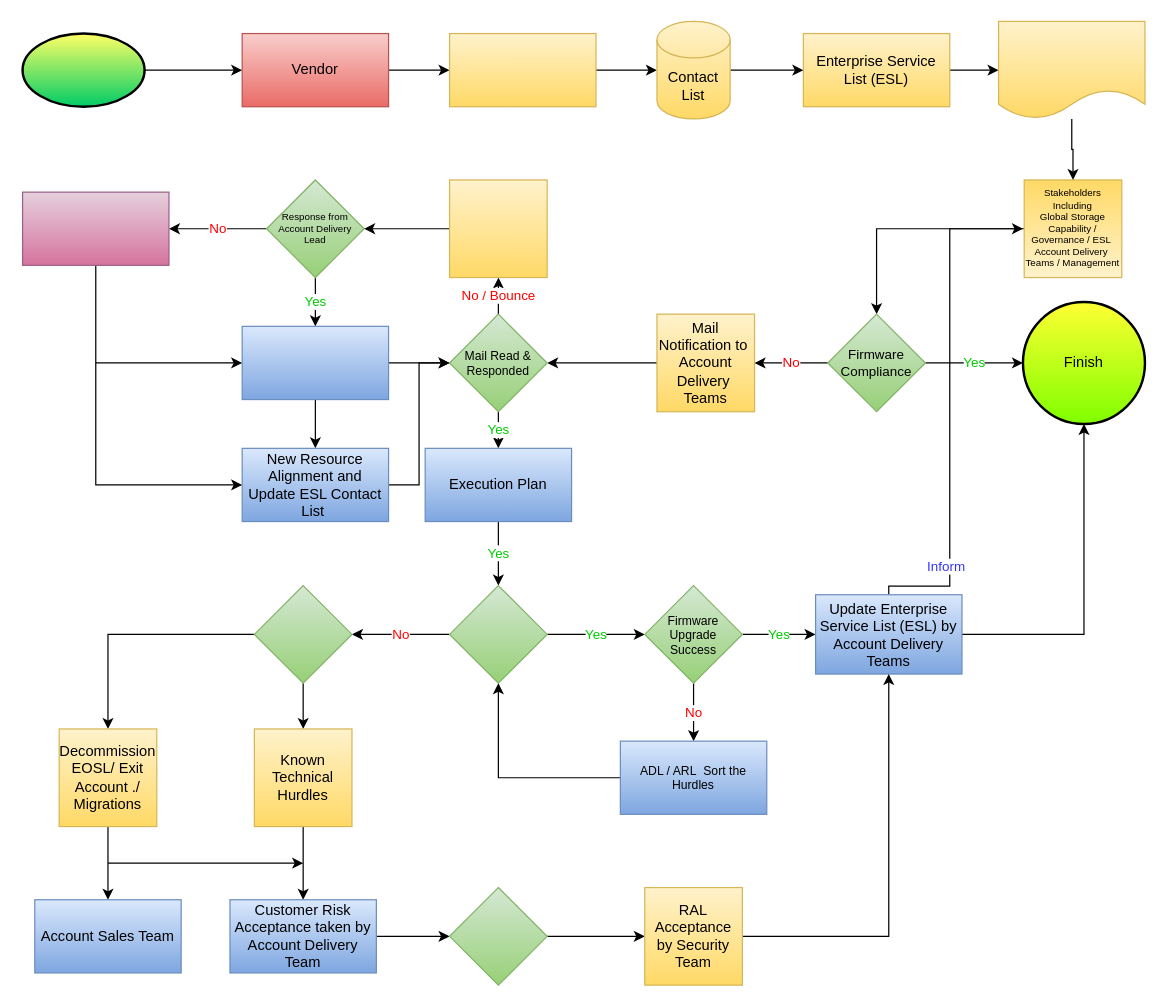
The diagram is 1166 pixels wide and 1007 high, and some of its shapes have lost their labels. The shapes that lost their labels are listed below. From the top down, each one's box as (x1, y1, x2, y2) in pixels, then its label:
(21, 32, 145, 107): Start
(448, 32, 596, 107): Global Storage Capability
(997, 20, 1145, 119): Code Evergreen Report
(21, 191, 169, 265): Escalation
(448, 179, 547, 278): Mail Notification to Account Delivery Lead
(241, 325, 389, 400): Account Delivery Lead Initiates Action
(253, 584, 352, 683): Reason for Exception
(448, 584, 547, 683): Firmware Upgrade
(448, 886, 547, 985): Raise ESIS by Account Delivery Team
